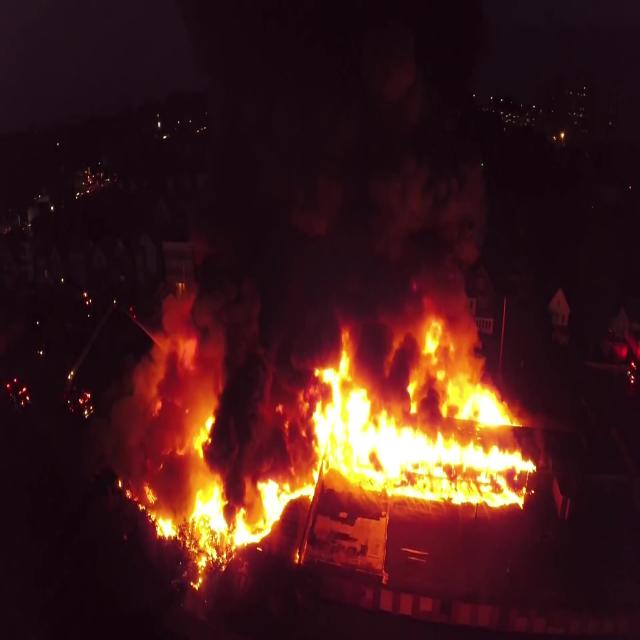Fire: (142, 323, 537, 581)
Smoke: (191, 1, 488, 314)
